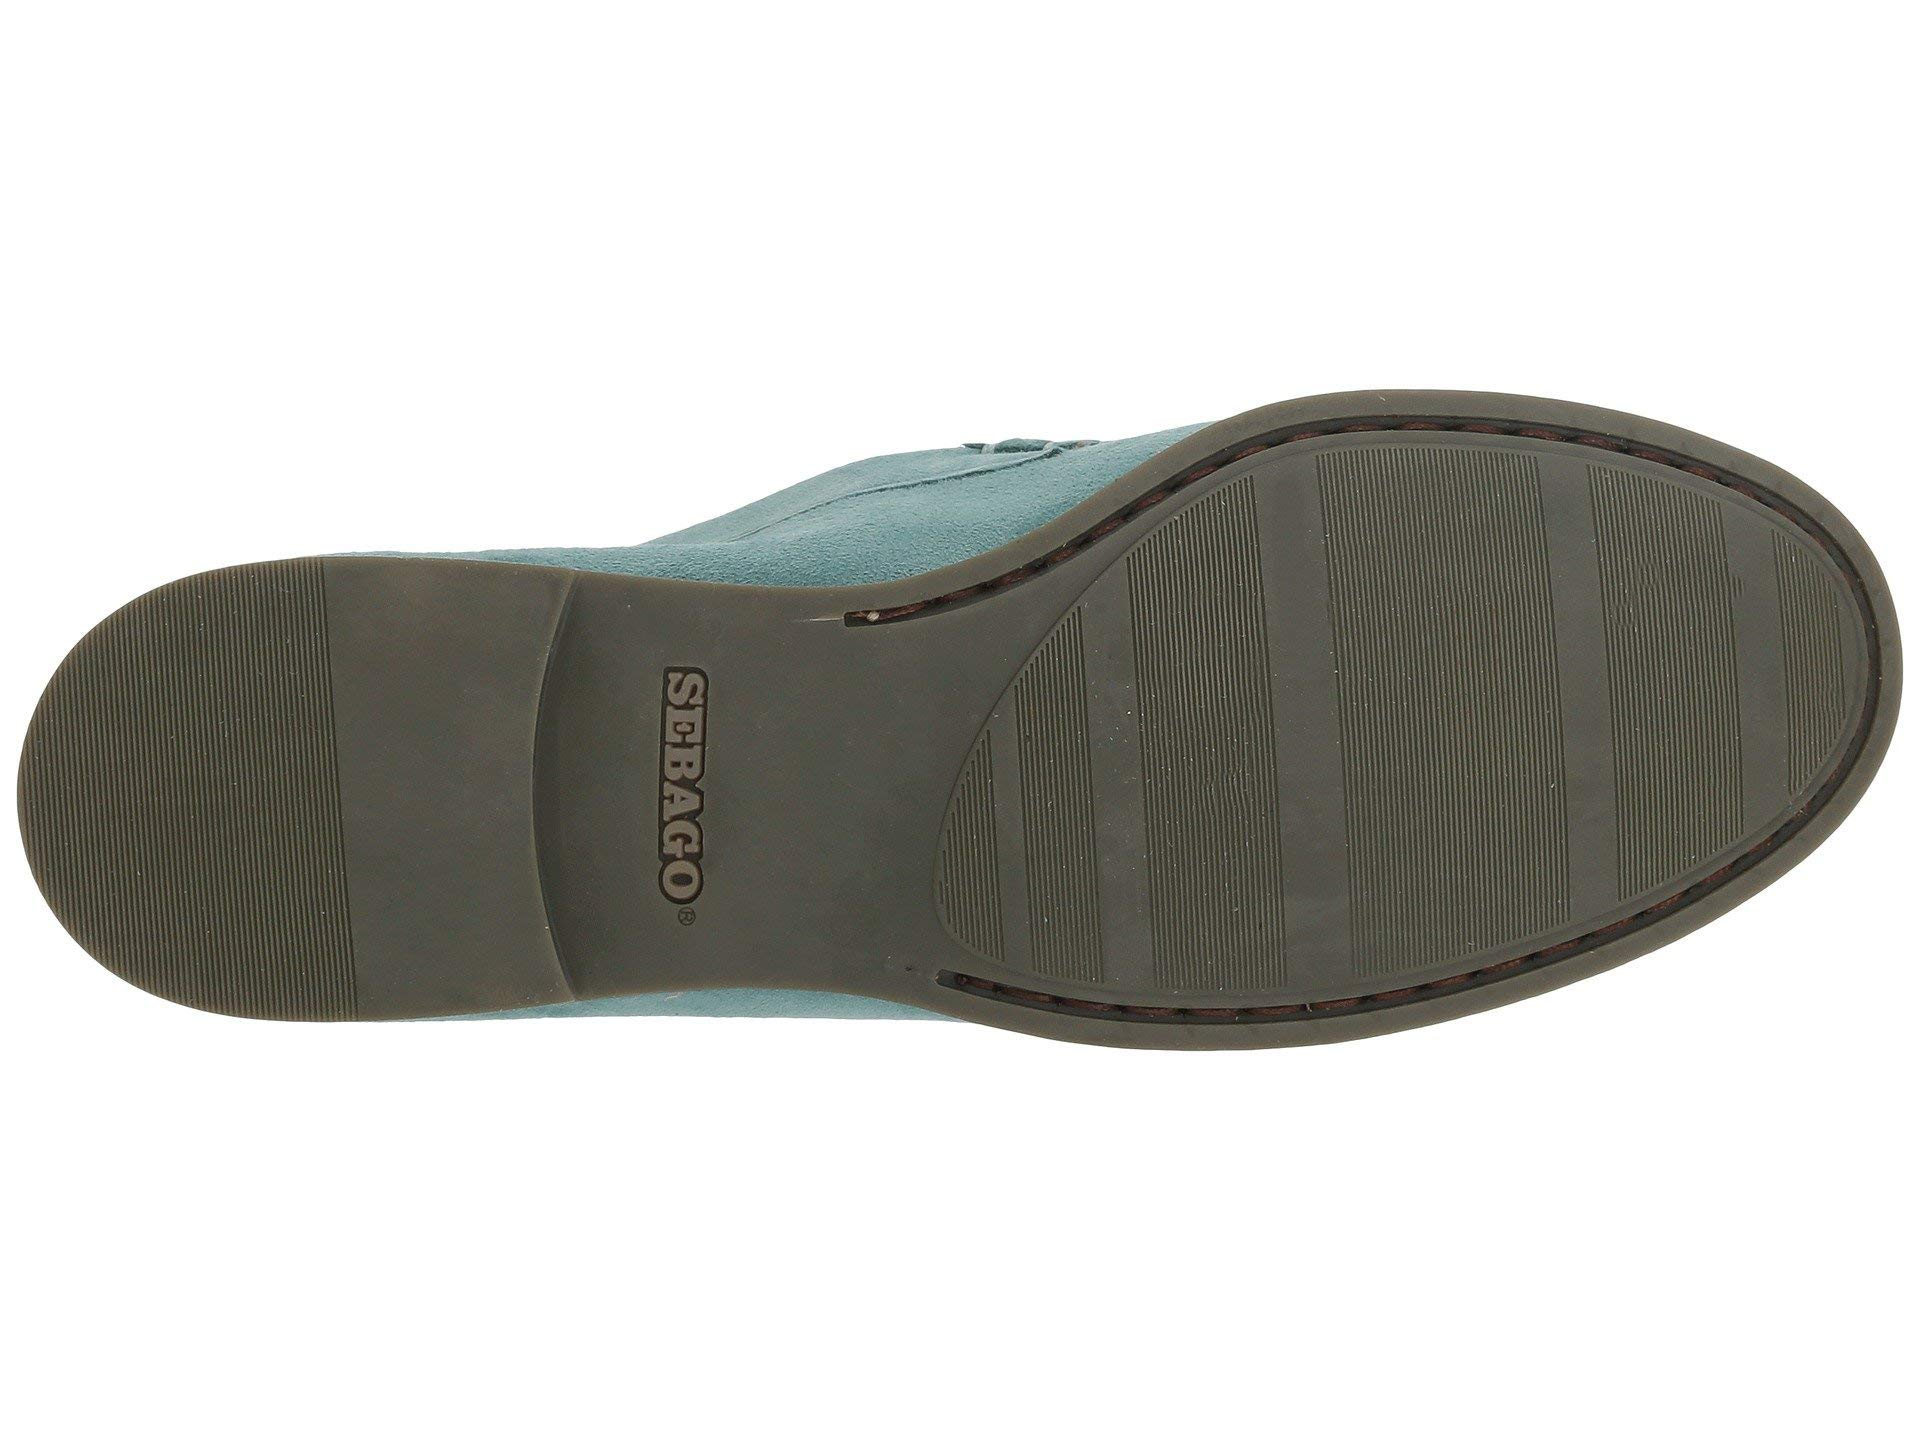circle: (573, 632, 924, 959)
text: (573, 632, 924, 959)
